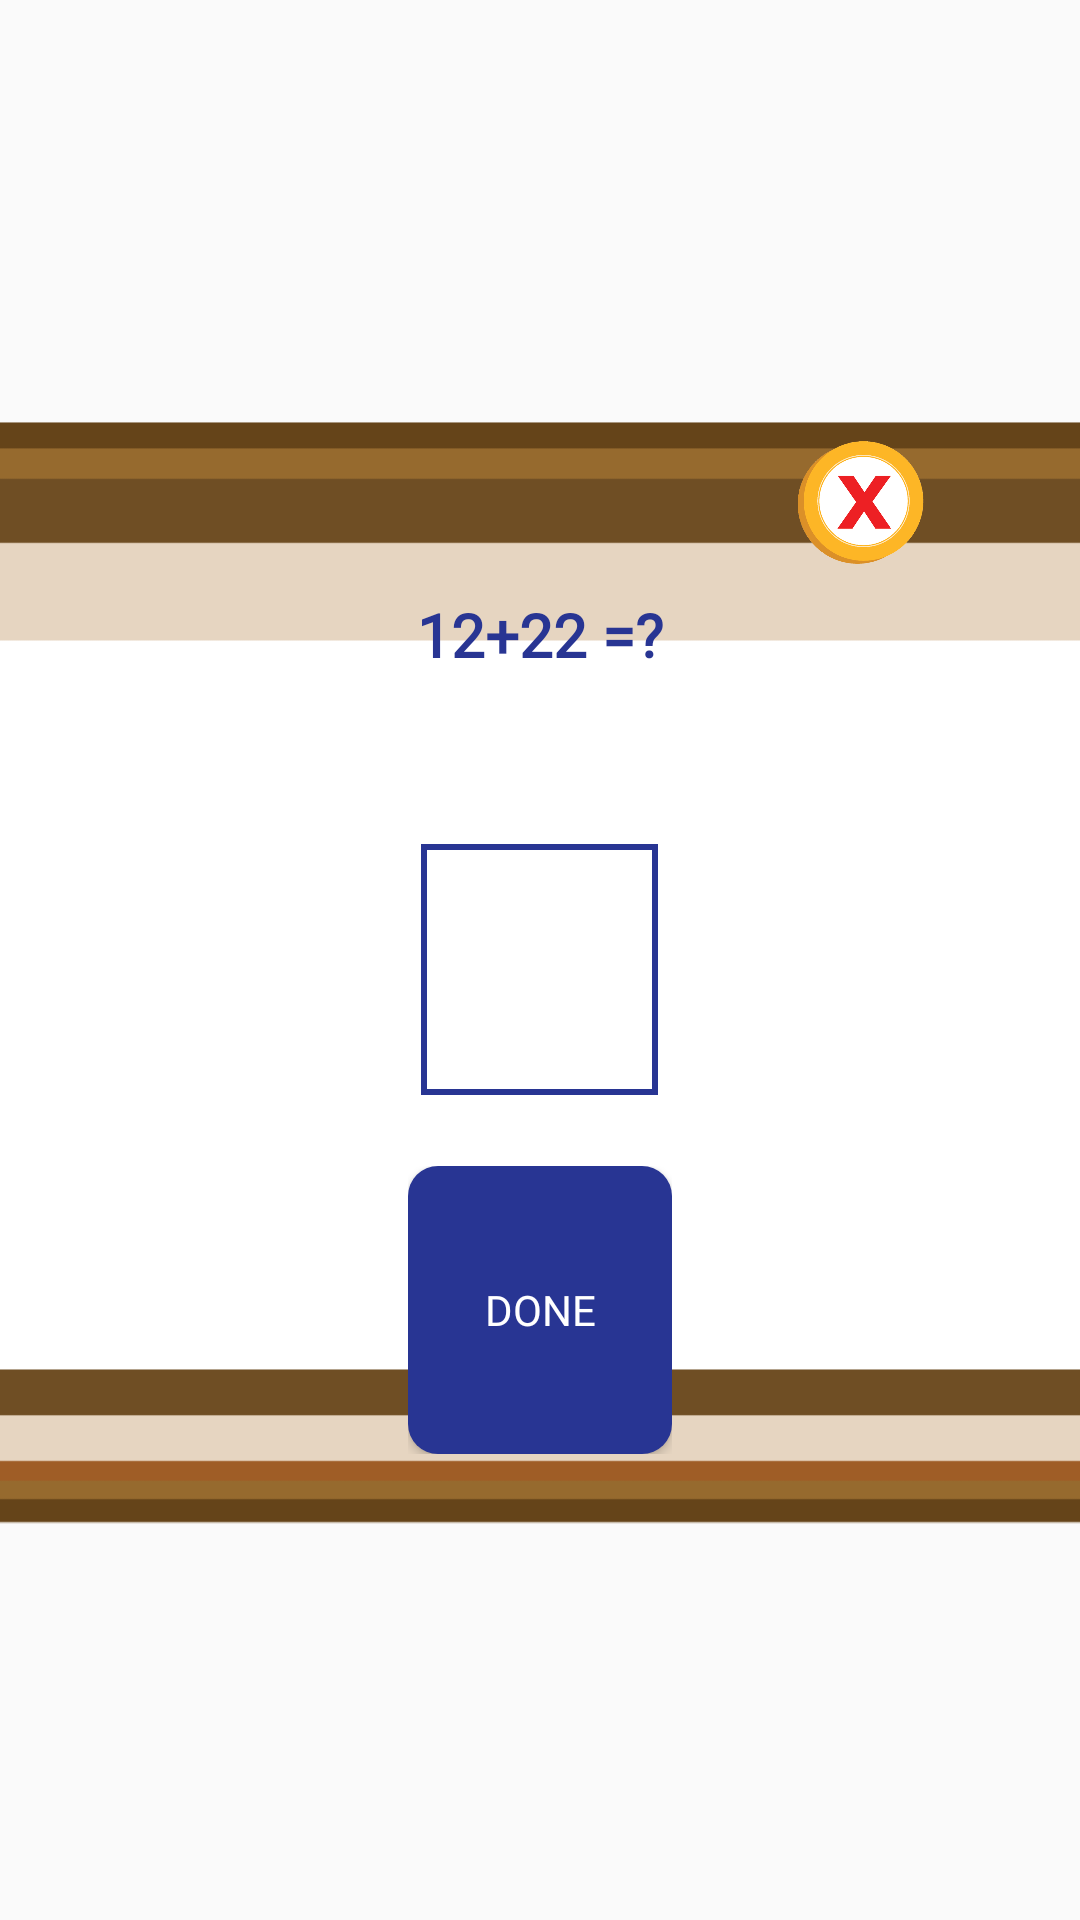

Point at icon controls on the screen. Image size 1080*1920, points as point (x, y).
canclebtn: point (861, 501)
